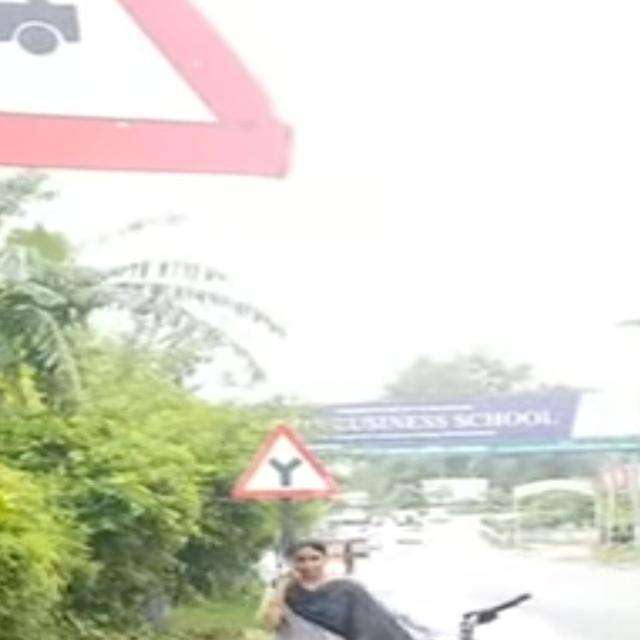y intersection: (233, 421, 335, 498)
